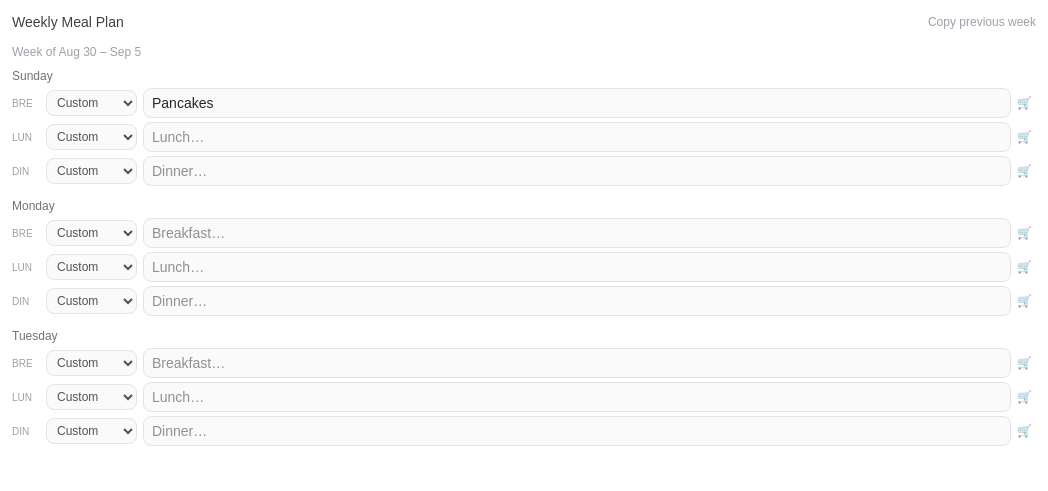
MealPlanSection › shows an error and leaves entries alone when copying the previous week fails
Click the button "Copy previous week".
click(982, 22)  # box 928,14 -> 1036,30
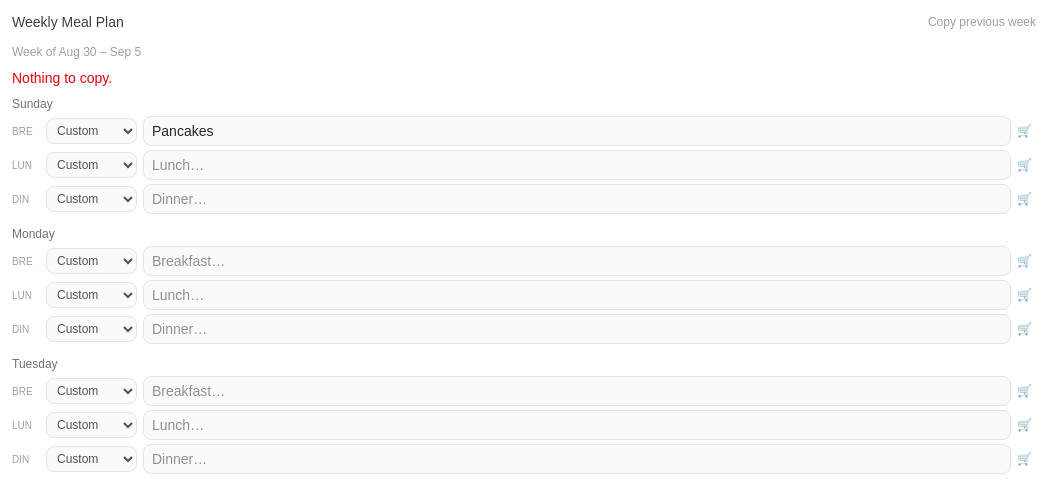
Check: the message reads "Nothing to copy.", box 12,70 -> 112,86
